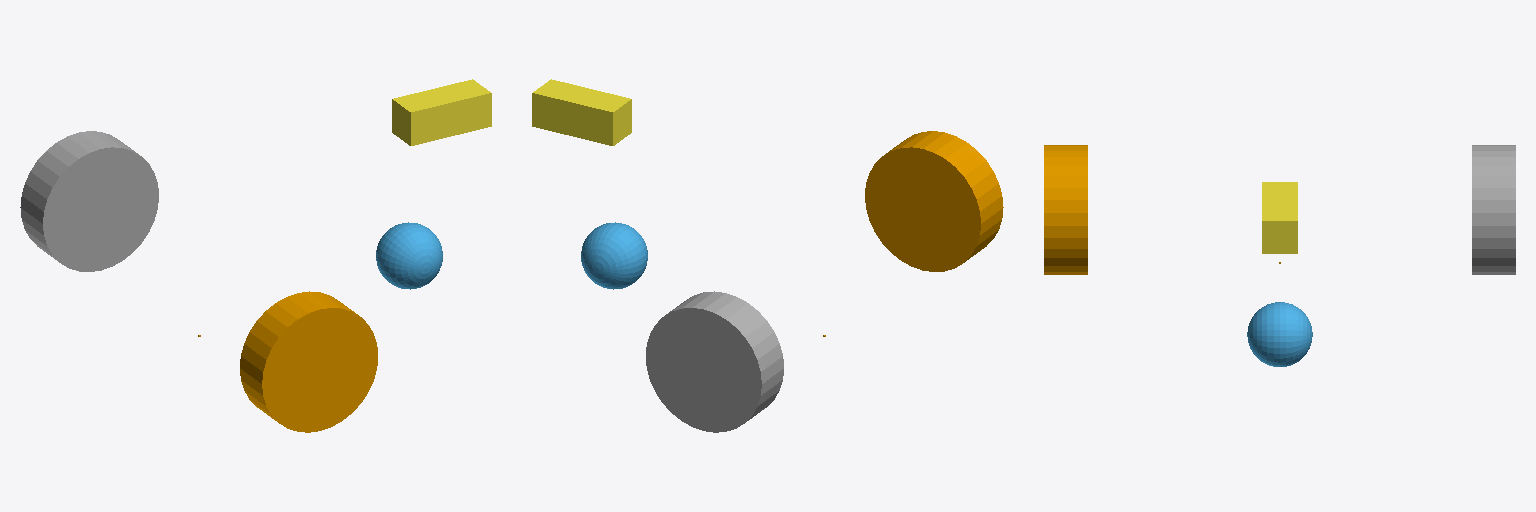
robot.urdf — create_2:
<?xml version="1.0" ?>
<!-- =================================================================================== -->
<!-- |    This document was autogenerated by xacro from ./create_description/urdf/create_2.urdf.xacro | -->
<!-- |    EDITING THIS FILE BY HAND IS NOT RECOMMENDED                                 | -->
<!-- =================================================================================== -->
<robot name="create_2">
  <link name="base_footprint">
    <visual>
      <origin rpy="0 0 0" xyz="0 0 0"/>
      <geometry>
        <box size="0.001 0.001 0.001"/>
      </geometry>
      <material name="Green"/>
    </visual>
  </link>
  <link name="base_link">
    <inertial>
      <mass value="2"/>
      <origin xyz="0 0 0.0"/>
      <inertia ixx="0.01" ixy="0.0" ixz="0.0" iyy="0.01" iyz="0.0" izz="0.5"/>
    </inertial>
    <visual>
      <origin rpy="0 0 0" xyz=" 0 0 0.0308"/>
      <geometry>
        <mesh filename="package://create_description/meshes/create_2.dae"/>
      </geometry>
    </visual>
  </link>
  <link name="wall_sensor_link">
    <inertial>
      <mass value="0.01"/>
      <origin xyz="0 0 0"/>
      <inertia ixx="0.001" ixy="0.0" ixz="0.0" iyy="0.001" iyz="0.0" izz="0.001"/>
    </inertial>
  </link>
  <link name="left_cliff_sensor_link">
    <inertial>
      <mass value="0.01"/>
      <origin xyz="0 0 0"/>
      <inertia ixx="0.001" ixy="0.0" ixz="0.0" iyy="0.001" iyz="0.0" izz="0.001"/>
    </inertial>
  </link>
  <link name="right_cliff_sensor_link">
    <inertial>
      <mass value="0.01"/>
      <origin xyz="0 0 0"/>
      <inertia ixx="0.001" ixy="0.0" ixz="0.0" iyy="0.001" iyz="0.0" izz="0.001"/>
    </inertial>
  </link>
  <link name="leftfront_cliff_sensor_link">
    <inertial>
      <mass value="0.01"/>
      <origin xyz="0 0 0"/>
      <inertia ixx="1.0" ixy="0.0" ixz="0.0" iyy="0.01" iyz="0.0" izz="0.01"/>
    </inertial>
  </link>
  <link name="rightfront_cliff_sensor_link">
    <inertial>
      <mass value="0.01"/>
      <origin xyz="0 0 0"/>
      <inertia ixx="0.001" ixy="0.0" ixz="0.0" iyy="0.001" iyz="0.0" izz="0.001"/>
    </inertial>
  </link>
  <joint name="base_footprint_joint" type="fixed">
    <origin rpy="0 0 0" xyz="0 0 0.017"/>
    <parent link="base_footprint"/>
    <child link="base_link"/>
  </joint>
  <joint name="base_wall_sensor_joint" type="fixed">
    <origin rpy="0 0 -1.0" xyz="0.09 -0.120 0.042"/>
    <parent link="base_link"/>
    <child link="wall_sensor_link"/>
  </joint>
  <joint name="base_left_cliff_sensor_joint" type="fixed">
    <origin rpy="0 1.5707963267948966 0" xyz="0.07 0.14 0.01"/>
    <parent link="base_link"/>
    <child link="left_cliff_sensor_link"/>
  </joint>
  <joint name="base_right_cliff_sensor_joint" type="fixed">
    <origin rpy="0 1.5707963267948966 0" xyz="0.07 -0.14 0.01"/>
    <parent link="base_link"/>
    <child link="right_cliff_sensor_link"/>
  </joint>
  <joint name="base_leftfront_cliff_sensor_joint" type="fixed">
    <origin rpy="0 1.5707963267948966 0" xyz="0.15 0.04 0.01"/>
    <parent link="base_link"/>
    <child link="leftfront_cliff_sensor_link"/>
  </joint>
  <joint name="base_rightfront_cliff_sensor_joint" type="fixed">
    <origin rpy="0 1.5707963267948966 0" xyz="0.15 -0.04 0.01"/>
    <parent link="base_link"/>
    <child link="rightfront_cliff_sensor_link"/>
  </joint>
  <link name="left_wheel_link">
    <inertial>
      <origin xyz="0 0 0"/>
      <mass value="0.01"/>
      <inertia ixx="0.001" ixy="0.0" ixz="0.0" iyy="0.001" iyz="0.0" izz="0.001"/>
    </inertial>
    <visual>
      <origin rpy="0 1.5707963267948966 1.5707963267948966" xyz="0 0 0"/>
      <geometry>
        <cylinder length="0.024" radius="0.036"/>
      </geometry>
    </visual>
  </link>
  <joint name="left_wheel_joint" type="continuous">
    <origin rpy="0 0 0" xyz="0 0.1175 0.015"/>
    <parent link="base_link"/>
    <child link="left_wheel_link"/>
    <axis xyz="0 1 0"/>
  </joint>
  <link name="right_wheel_link">
    <inertial>
      <origin xyz="0 0 0"/>
      <mass value="0.01"/>
      <inertia ixx="0.001" ixy="0.0" ixz="0.0" iyy="0.001" iyz="0.0" izz="0.001"/>
    </inertial>
    <visual>
      <origin rpy="0 1.5707963267948966 1.5707963267948966" xyz="0 0 0"/>
      <geometry>
        <cylinder length="0.024" radius="0.036"/>
      </geometry>
    </visual>
  </link>
  <joint name="right_wheel_joint" type="continuous">
    <origin rpy="0 0 0" xyz="0 -0.1175 0.015"/>
    <parent link="base_link"/>
    <child link="right_wheel_link"/>
    <axis xyz="0 1 0"/>
  </joint>
  <!--<link name="rear_wheel_link">
    <inertial>
      <origin xyz="0 0 0"/>
      <mass value="0.001" />
      <inertia ixx="0.0001" ixy="0.0" ixz="0.0"
        iyy="0.0001" iyz="0.0" izz="0.0001" />
    </inertial>

    <visual>
      <origin xyz="0 0 0" rpy="0 ${PI/2} ${PI/2}"/>
      <geometry>
        <sphere radius="0.015" />
      </geometry>
    </visual>

    </link>
    <joint name="rear_castor_joint" type="fixed">
      <origin xyz="-0.13 0 0.0" rpy="0 0 0"/>
      <parent link="base_link"/>
      <child link="rear_wheel_link"/>
      <axis xyz="0 1 0"/>
    </joint>-->
  <link name="front_wheel_link">
    <inertial>
      <origin xyz="0 0 0"/>
      <mass value="0.01"/>
      <inertia ixx="0.001" ixy="0.0" ixz="0.0" iyy="0.001" iyz="0.0" izz="0.001"/>
    </inertial>
    <visual>
      <origin rpy="0 1.5707963267948966 1.5707963267948966" xyz="0 0 0"/>
      <geometry>
        <sphere radius="0.018"/>
      </geometry>
    </visual>
  </link>
  <!-- fixed because there's no transmission -->
  <joint name="front_castor_joint" type="fixed">
    <origin rpy="0 0 0" xyz="0.13 0 0.0"/>
    <parent link="base_link"/>
    <child link="front_wheel_link"/>
    <axis xyz="0 1 0"/>
  </joint>
  <joint name="gyro_joint" type="fixed">
    <axis xyz="0 1 0"/>
    <origin rpy="0 0 0" xyz="0 0 0.04"/>
    <parent link="base_link"/>
    <child link="gyro_link"/>
  </joint>
  <link name="gyro_link">
    <inertial>
      <mass value="0.001"/>
      <origin rpy="0 0 0" xyz="0 0 0"/>
      <inertia ixx="0.0001" ixy="0" ixz="0" iyy="0.000001" iyz="0" izz="0.0001"/>
    </inertial>
  </link>
  <link name="camera_link">
    <visual>
      <geometry>
        <box size="0.05 0.02 0.02"/>
      </geometry>
    </visual>
  </link>
  <joint name="camera_joint" type="fixed">
    <axis xyz="1 0 0"/>
    <origin rpy="0 0 0" xyz="0.15 0 0.08"/>
    <parent link="base_link"/>
    <child link="camera_link"/>
  </joint>
  <gazebo>
    <plugin filename="libgazebo_ros_diff_drive.so" name="differential_drive_controller">
      <alwaysOn>true</alwaysOn>
      <updateRate>40</updateRate>
      <leftJoint>left_wheel_joint</leftJoint>
      <rightJoint>right_wheel_joint</rightJoint>
      <wheelSeparation>0.235</wheelSeparation>
      <wheelDiameter>0.072</wheelDiameter>
      <wheelTorque>1.0</wheelTorque>
      <!--wheelAcceleration>${wheel_accel}</wheelAcceleration-->
      <commandTopic>cmd_vel</commandTopic>
      <odometryTopic>odom</odometryTopic>
      <odometryFrame>odom</odometryFrame>
      <robotBaseFrame>base_footprint</robotBaseFrame>
    </plugin>
    <plugin filename="libgazebo_ros_p3d.so" name="p3d_base_controller">
      <alwaysOn>true</alwaysOn>
      <updateRate>100.0</updateRate>
      <bodyName>base_link</bodyName>
      <topicName>simple_controller/absolute_position</topicName>
      <gaussianNoise>0</gaussianNoise>
      <frameName>map</frameName>
      <xyzOffsets>0 0 0</xyzOffsets>
      <rpyOffsets>0 0 0</rpyOffsets>
      <!--<interface:position name="p3d_base_position"/>-->
    </plugin>
  </gazebo>
  <gazebo reference="left_wheel_link">
    <mu1>1.0</mu1>
    <mu2>1.0</mu2>
    <kp>1000000.0</kp>
    <kd>100.0</kd>
    <minDepth>0.001</minDepth>
    <maxVel>1.0</maxVel>
  </gazebo>
  <gazebo reference="right_wheel_link">
    <mu1>1.0</mu1>
    <mu2>1.0</mu2>
    <kp>1000000.0</kp>
    <kd>100.0</kd>
    <minDepth>0.001</minDepth>
    <maxVel>1.0</maxVel>
  </gazebo>
  <gazebo reference="rear_wheel_link">
    <mu1>0.0</mu1>
    <mu2>0.0</mu2>
    <kp>1000000.0</kp>
    <kd>100.0</kd>
    <minDepth>0.001</minDepth>
    <maxVel>1.0</maxVel>
  </gazebo>
  <gazebo reference="front_wheel_link">
    <mu1>0.0</mu1>
    <mu2>0.0</mu2>
    <kp>1000000.0</kp>
    <kd>100.0</kd>
    <minDepth>0.001</minDepth>
    <maxVel>1.0</maxVel>
  </gazebo>
  <gazebo reference="wall_sensor_link">
    <sensor name="wall_sensor" type="ray">
      <always_on>true</always_on>
      <update_rate>20.0</update_rate>
      <pose>0 0 0 0 0 0</pose>
      <visualize>false</visualize>
      <ray>
        <scan>
          <horizontal>
            <samples>1</samples>
            <resolution>1</resolution>
            <min_angle>0</min_angle>
            <max_angle>0</max_angle>
          </horizontal>
        </scan>
        <range>
          <min>0.0160</min>
          <max>0.04</max>
          <resolution>0.1</resolution>
        </range>
      </ray>
    </sensor>
  </gazebo>
  <gazebo reference="left_cliff_sensor_link">
    <sensor name="left_cliff_sensor" type="ray">
      <always_on>true</always_on>
      <update_rate>20.0</update_rate>
      <pose>0 0 0 0 0 0</pose>
      <visualize>false</visualize>
      <ray>
        <scan>
          <horizontal>
            <samples>1</samples>
            <resolution>1</resolution>
            <min_angle>0</min_angle>
            <max_angle>0</max_angle>
          </horizontal>
        </scan>
        <range>
          <min>0.01</min>
          <max>0.04</max>
          <resolution>0.1</resolution>
        </range>
      </ray>
    </sensor>
  </gazebo>
  <gazebo reference="right_cliff_sensor_link">
    <sensor name="right_cliff_sensor" type="ray">
      <always_on>true</always_on>
      <update_rate>20.0</update_rate>
      <pose>0 0 0 0 0 0</pose>
      <visualize>false</visualize>
      <ray>
        <scan>
          <horizontal>
            <samples>1</samples>
            <resolution>1</resolution>
            <min_angle>0</min_angle>
            <max_angle>0</max_angle>
          </horizontal>
        </scan>
        <range>
          <min>0.01</min>
          <max>0.04</max>
          <resolution>0.1</resolution>
        </range>
      </ray>
    </sensor>
  </gazebo>
  <gazebo reference="leftfront_cliff_sensor_link">
    <sensor name="leftfront_cliff_sensor" type="ray">
      <always_on>true</always_on>
      <update_rate>20.0</update_rate>
      <pose>0 0 0 0 0 0</pose>
      <visualize>false</visualize>
      <ray>
        <scan>
          <horizontal>
            <samples>1</samples>
            <resolution>1</resolution>
            <min_angle>0</min_angle>
            <max_angle>0</max_angle>
          </horizontal>
        </scan>
        <range>
          <min>0.01</min>
          <max>0.04</max>
          <resolution>0.1</resolution>
        </range>
      </ray>
    </sensor>
  </gazebo>
  <gazebo reference="rightfront_cliff_sensor_link">
    <sensor name="rightfront_cliff_sensor" type="ray">
      <always_on>true</always_on>
      <update_rate>20.0</update_rate>
      <pose>0 0 0 0 0 0</pose>
      <visualize>false</visualize>
      <ray>
        <scan>
          <horizontal>
            <samples>1</samples>
            <resolution>1</resolution>
            <min_angle>0</min_angle>
            <max_angle>0</max_angle>
          </horizontal>
        </scan>
        <range>
          <min>0.01</min>
          <max>0.04</max>
          <resolution>0.1</resolution>
        </range>
      </ray>
    </sensor>
  </gazebo>
  <gazebo>
    <plugin filename="libgazebo_ros_imu.so" name="imu_controller">
      <alwaysOn>true</alwaysOn>
      <updateRate>30</updateRate>
      <bodyName>gyro_link</bodyName>
      <topicName>imu/data</topicName>
      <serviceName>imu/is_calibrated</serviceName>
      <gaussianNoise>2.89e-06</gaussianNoise>
      <xyzOffsets>0 0 0</xyzOffsets>
      <rpyOffsets>0 0 0</rpyOffsets>
    </plugin>
  </gazebo>
</robot>

--- Facts derived from the render (not from the file) ---
The picture shows the robot from 3 angles, left to right: view 1: azimuth 30°, elevation 25°; view 2: azimuth 150°, elevation 25°; view 3: azimuth 270°, elevation 25°; orthographic projection.
Model create_2 with 12 links and 11 joints (2 continuous, 9 fixed), rooted at base_footprint, posed every joint at zero.
Visible links, largest first — view 1: left_wheel_link, right_wheel_link, camera_link, front_wheel_link; view 2: right_wheel_link, left_wheel_link, camera_link, front_wheel_link; view 3: left_wheel_link, right_wheel_link, front_wheel_link, camera_link.
Link boxes in pixels (x1,y1,x2,y2): left_wheel_link: (20,131,158,271); right_wheel_link: (240,291,377,432); camera_link: (392,79,491,145); front_wheel_link: (376,222,442,289); right_wheel_link: (865,131,1003,271); left_wheel_link: (646,291,783,432); camera_link: (532,79,631,145); front_wheel_link: (581,222,647,289); left_wheel_link: (1472,145,1515,274); right_wheel_link: (1044,145,1087,274); front_wheel_link: (1247,302,1312,366); camera_link: (1262,182,1297,253).
Size in the robot's own frame: 0.211 by 0.259 by 0.111 metres.
0 mesh visuals loaded from 1 distinct referenced files (none loaded); not drawn: 1 (reference not matched to a file when rendering).
